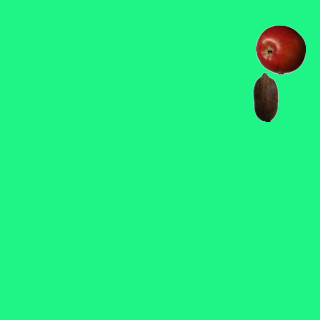Apple Braeburn: (255, 24, 305, 74)
Nut Pecan: (240, 71, 290, 121)
